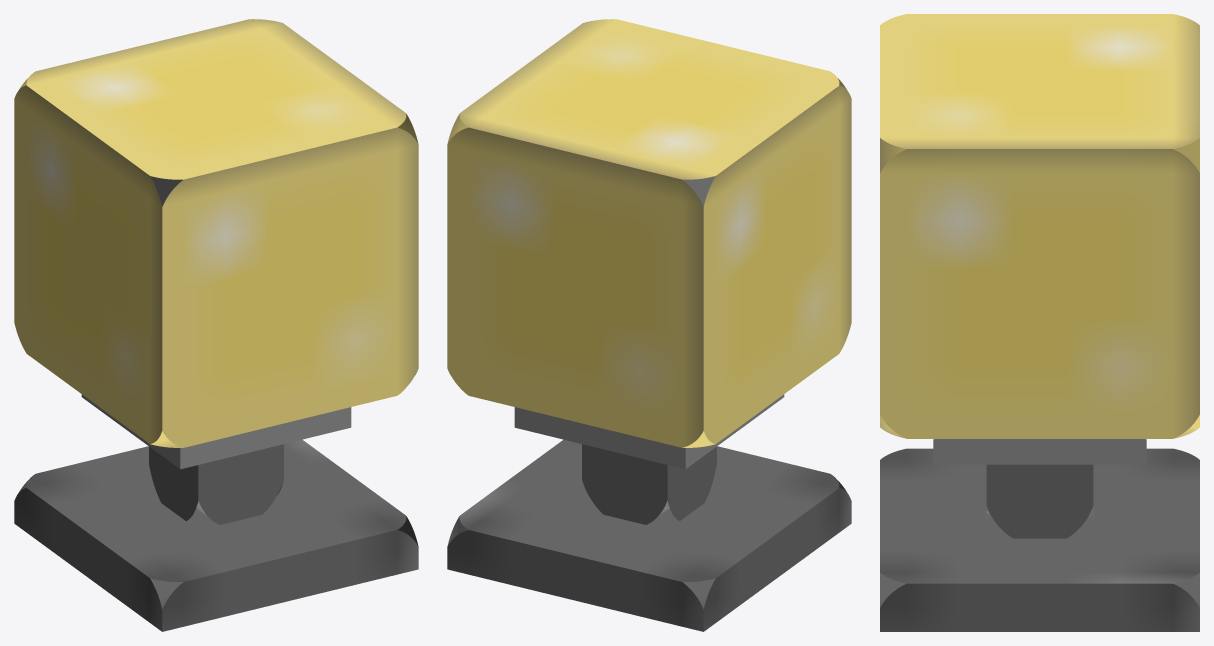
File: desk_lamp.obj
The picture shows the model from 3 angles, left to right: view 1: azimuth 30°, elevation 25°; view 2: azimuth 150°, elevation 25°; view 3: azimuth 270°, elevation 25°; orthographic projection. The views are drawn at different scales.
Parts seen in each view (by area): view 1: mesh; view 2: mesh; view 3: mesh.
Boxes of the visible parts, left/top/right/bottom form: mesh: left=14, top=19, right=418, bottom=631; mesh: left=447, top=19, right=851, bottom=631; mesh: left=880, top=14, right=1199, bottom=631.
Size of the model in its own units: 0.375 by 0.625 by 0.375.
